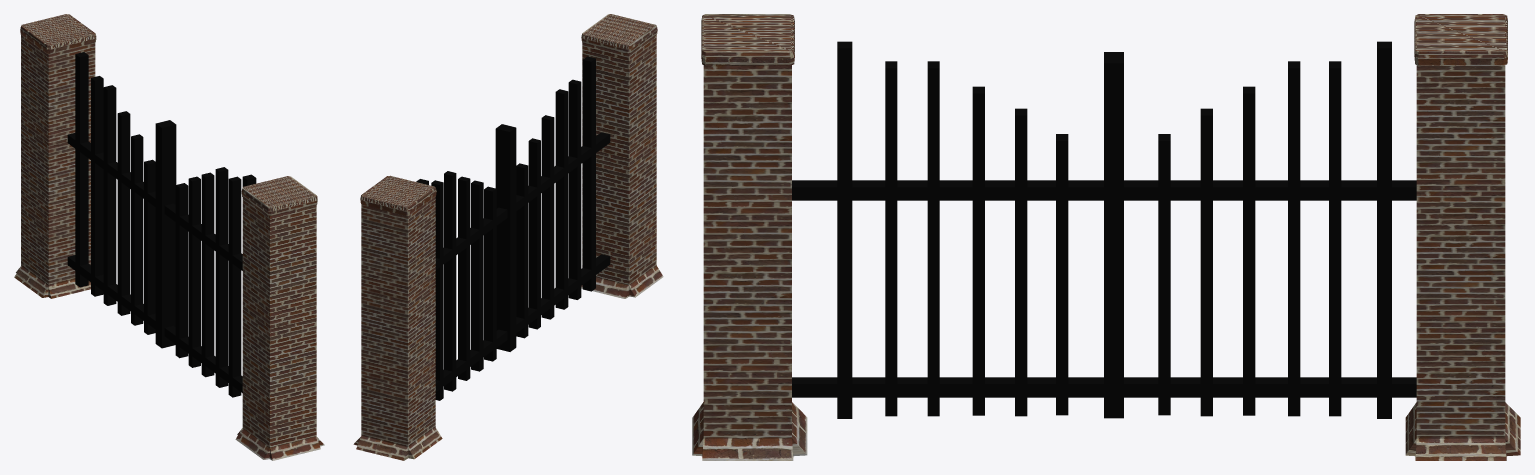
The model's file is gate.glb.
3 renders of one model, left to right at view 1: azimuth 30°, elevation 25°; view 2: azimuth 150°, elevation 25°; view 3: azimuth 270°, elevation 25°, orthographic. The views are drawn at different scales.
Visible parts, largest first — view 1: 左門, 右門, 柵1, 柵13, 柵9, 柵10, 柵8, 柵11, 柵7, 柵6, 柵4, 柵5 (+4 smaller); view 2: 右門, 左門, 柵1, 柵12, 柵10, 柵8, 柵9, 柵6, 柵7, 柵5, 柵4, 柵下 (+4 smaller); view 3: 右門, 左門, 柵下, 柵上, 柵1, 柵12, 柵13, 柵8, 柵9, 柵10, 柵11, 柵7 (+5 smaller).
Boxes of the visible parts, x1,y1,x2,y2 form: 左門: [235, 176, 324, 460]; 右門: [14, 14, 96, 298]; 柵1: [155, 120, 176, 348]; 柵13: [75, 52, 88, 287]; 柵9: [103, 85, 116, 305]; 柵10: [228, 176, 241, 397]; 柵8: [215, 167, 228, 387]; 柵11: [91, 76, 103, 296]; 柵7: [117, 111, 130, 315]; 柵6: [201, 172, 214, 377]; 柵4: [188, 176, 200, 367]; 柵5: [131, 134, 143, 325]; 右門: [353, 175, 442, 460]; 左門: [581, 14, 663, 298]; 柵1: [495, 124, 516, 351]; 柵12: [582, 56, 595, 291]; 柵10: [568, 79, 581, 299]; 柵8: [555, 89, 568, 309]; 柵9: [444, 171, 456, 391]; 柵6: [541, 115, 554, 319]; 柵7: [458, 176, 470, 380]; 柵5: [471, 180, 483, 371]; 柵4: [528, 138, 540, 329]; 柵下: [435, 254, 610, 391]; 右門: [1405, 14, 1520, 460]; 左門: [692, 14, 807, 460]; 柵下: [792, 377, 1416, 397]; 柵上: [792, 180, 1416, 200]; 柵1: [1104, 52, 1123, 418]; 柵12: [837, 41, 852, 418]; 柵13: [1377, 41, 1391, 418]; 柵8: [927, 61, 939, 416]; 柵9: [1288, 61, 1300, 416]; 柵10: [885, 61, 897, 416]; 柵11: [1329, 61, 1341, 416]; 柵7: [1243, 86, 1255, 415].
Bounding box in the file's own units: 2.66 × 10.44 × 19.39.
Materials: 17 (2 with a texture image).
